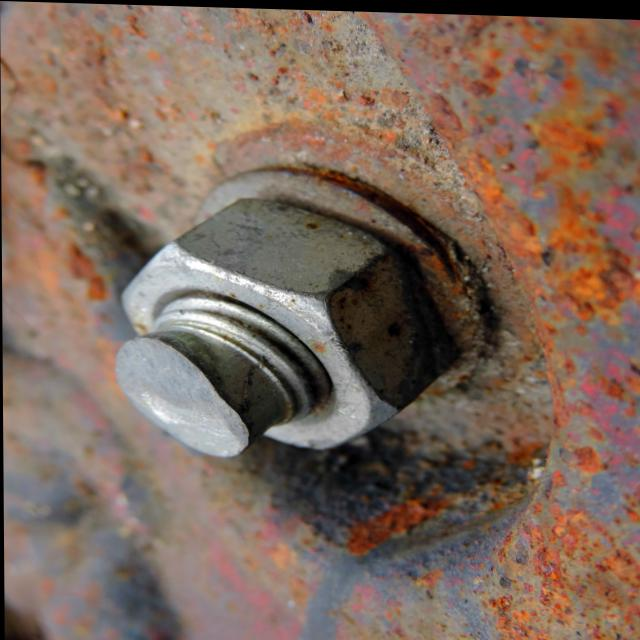Regular bolt: (117, 195, 441, 458)
